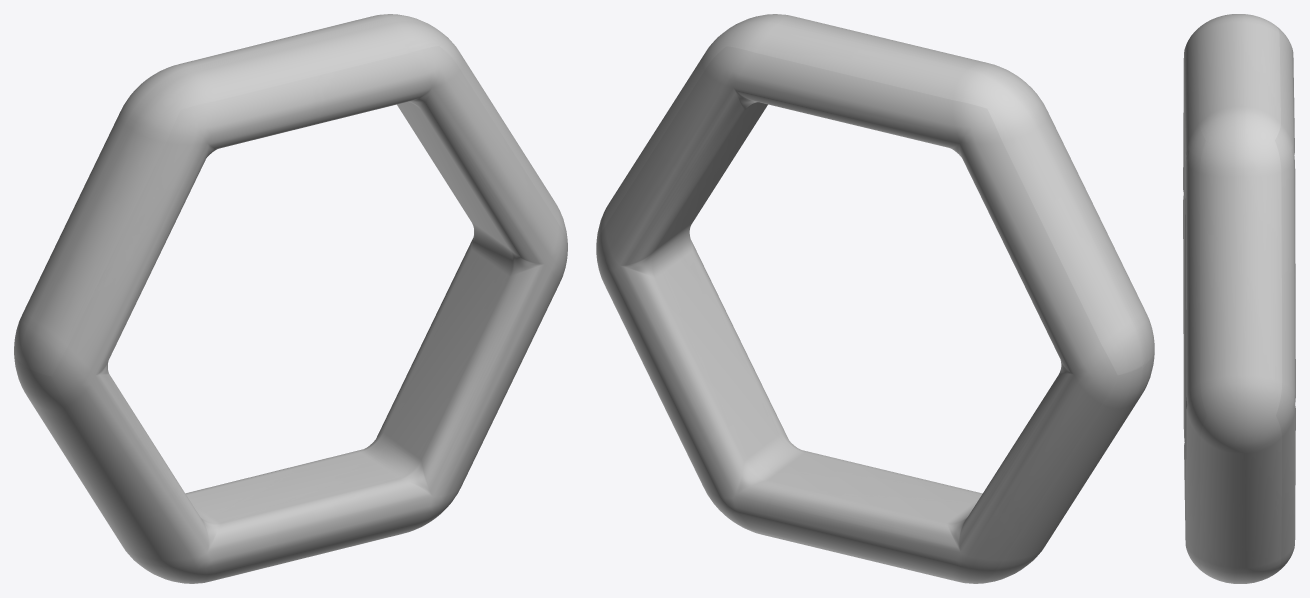
File: NuovoSitoEsagonoGrigio.gltf
3 views of the same model, side by side, from view 1: azimuth 30°, elevation 25°; view 2: azimuth 150°, elevation 25°; view 3: azimuth 270°, elevation 25° (orthographic). The views are drawn at different scales.
Visible parts, largest first — view 1: Esagono Grigio; view 2: Esagono Grigio; view 3: Esagono Grigio.
Boxes of the visible parts, <box> form: Esagono Grigio: <box>14,14,567,583</box>; Esagono Grigio: <box>596,14,1154,583</box>; Esagono Grigio: <box>1183,14,1295,583</box>.
Size of the model in its own units: 2.54 by 2.3 by 0.5012.
Materials: 1 (1 with a texture image).
